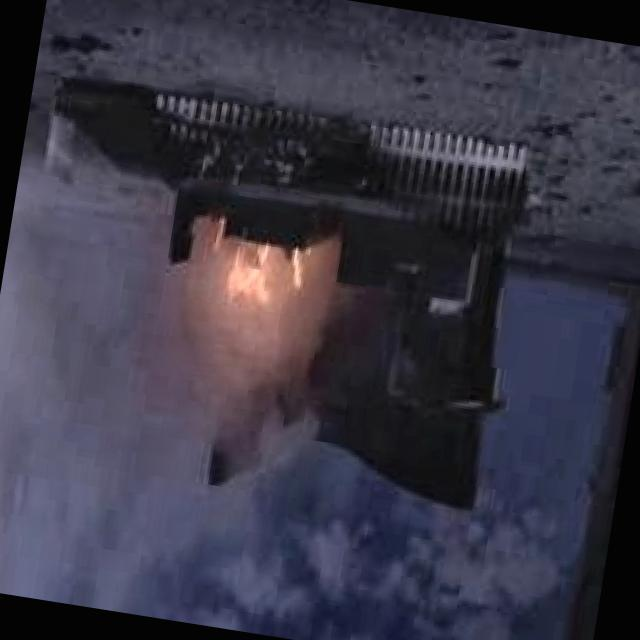fire: (195, 230, 332, 356)
smoke: (0, 295, 329, 638)
